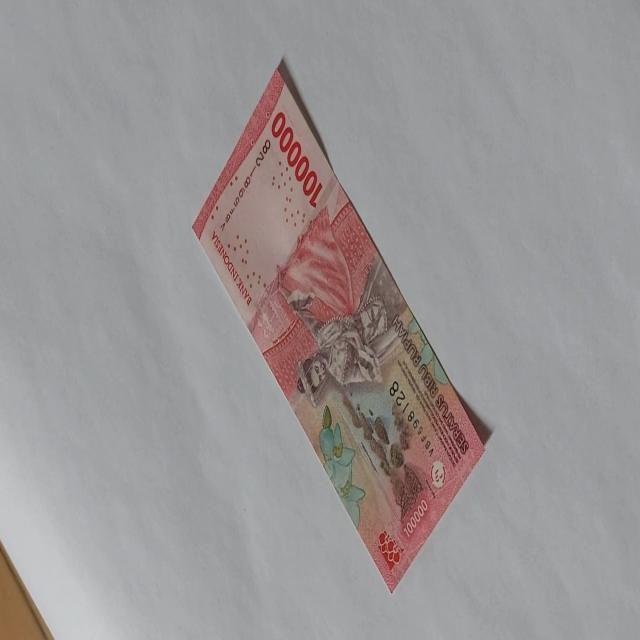seratus ribu rupiah: (191, 61, 487, 593)
